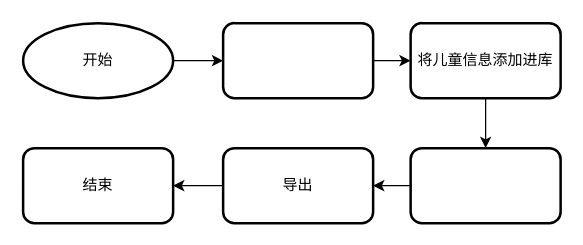
Some shapes in this 583 by 245 pixel diagram are drawn without their labels. Each missing label, with the centre of its shape:
"对新生儿进行检查" belongs at pixel 297 60.
"添加对应的缺陷信息" belongs at pixel 485 185.
